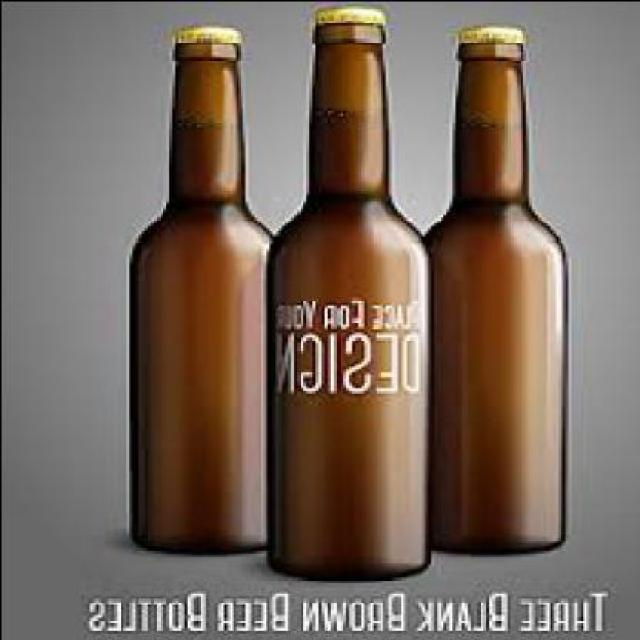glass: (266, 20, 437, 577), (131, 40, 283, 549), (424, 39, 570, 552)
metal: (174, 22, 248, 40), (457, 24, 531, 41), (314, 2, 391, 18)
